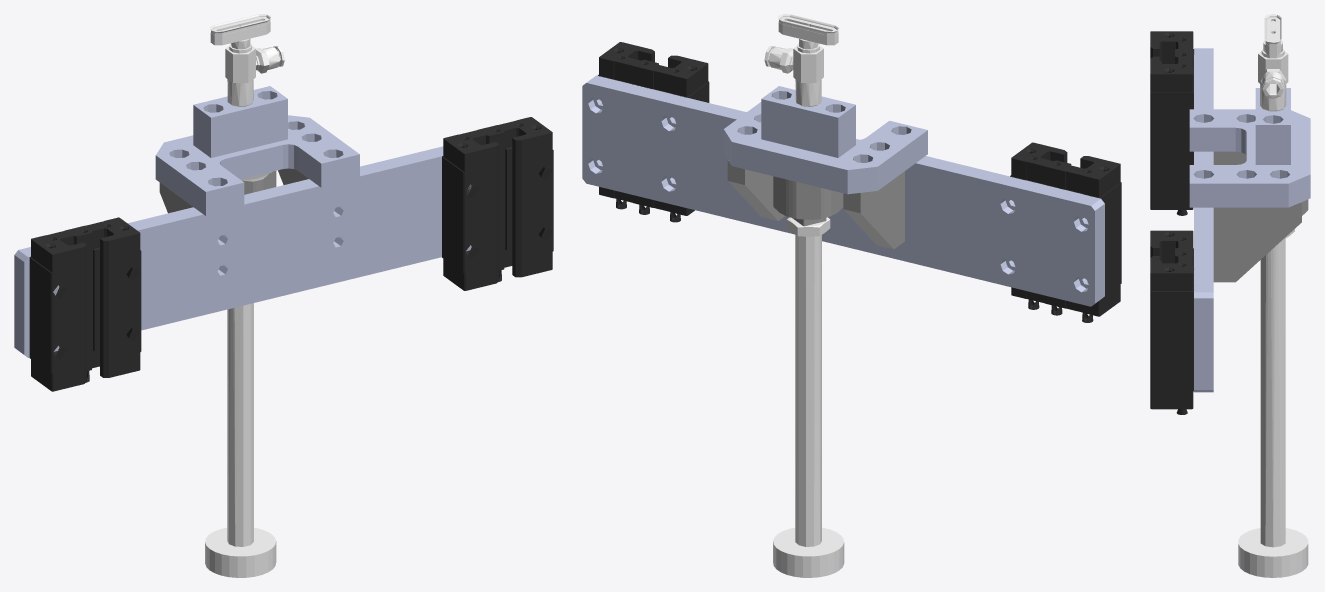
Rendered from pull_cylinder_link.dae.
3 renders of one model, left to right at view 1: azimuth 30°, elevation 25°; view 2: azimuth 150°, elevation 25°; view 3: azimuth 270°, elevation 25°, orthographic.
Visible parts, largest first — view 1: node4, node9, node8, node3, node1, node7, node10, node11; view 2: node4, node1, node3, node9, node8, node7, node6, node2, node10, node5, node11; view 3: node1, node3, node8, node9, node4, node5, node7, node10, node11, node6.
Part boxes in pixels (x1,y1,x2,y2): node4: (14, 146, 471, 357); node9: (29, 217, 141, 391); node8: (442, 117, 553, 290); node3: (155, 115, 359, 215); node1: (205, 303, 276, 577); node7: (193, 86, 287, 157); node10: (225, 43, 284, 106); node11: (210, 14, 271, 49); node4: (582, 75, 1104, 306); node1: (773, 235, 844, 577); node3: (723, 102, 927, 194); node9: (1010, 142, 1121, 322); node8: (597, 42, 709, 222); node7: (761, 86, 855, 157); node6: (843, 171, 904, 249); node2: (773, 176, 843, 226); node10: (764, 43, 823, 106); node5: (727, 160, 784, 220); node11: (778, 14, 839, 49); node1: (1238, 238, 1308, 577); node3: (1189, 109, 1310, 207); node8: (1150, 230, 1193, 414); node9: (1150, 31, 1194, 215); node4: (1194, 48, 1213, 392); node5: (1213, 202, 1301, 282); node7: (1255, 88, 1290, 164); node10: (1258, 48, 1288, 111); node11: (1263, 14, 1282, 55); node6: (1213, 151, 1246, 164).
Bounding box in the file's own units: 0.266 × 0.0728 × 0.2678.
